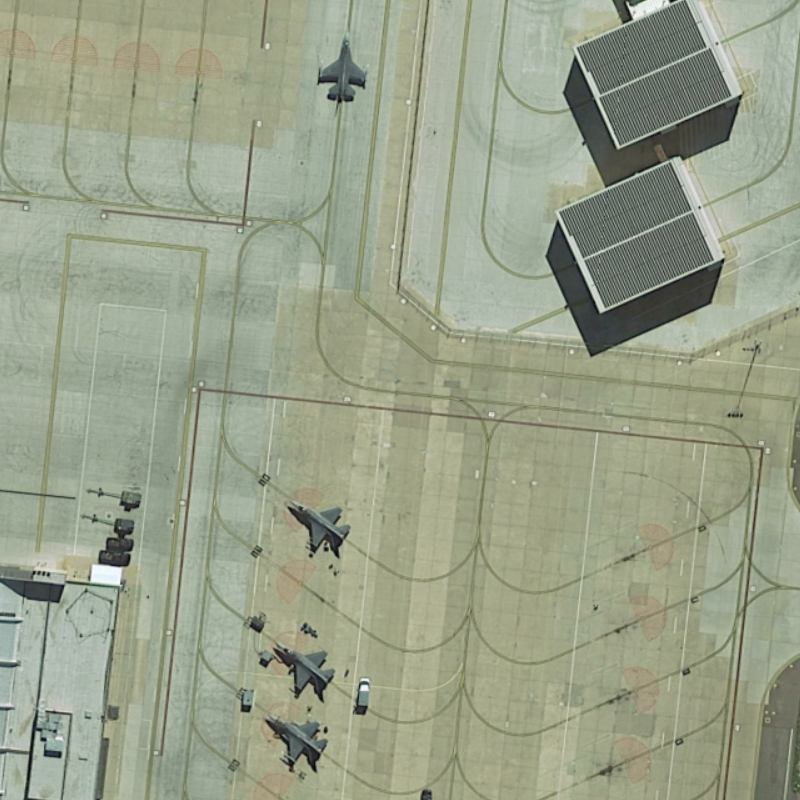A5: (277, 489, 361, 566), (261, 711, 339, 780), (312, 24, 373, 112), (269, 634, 341, 704)
